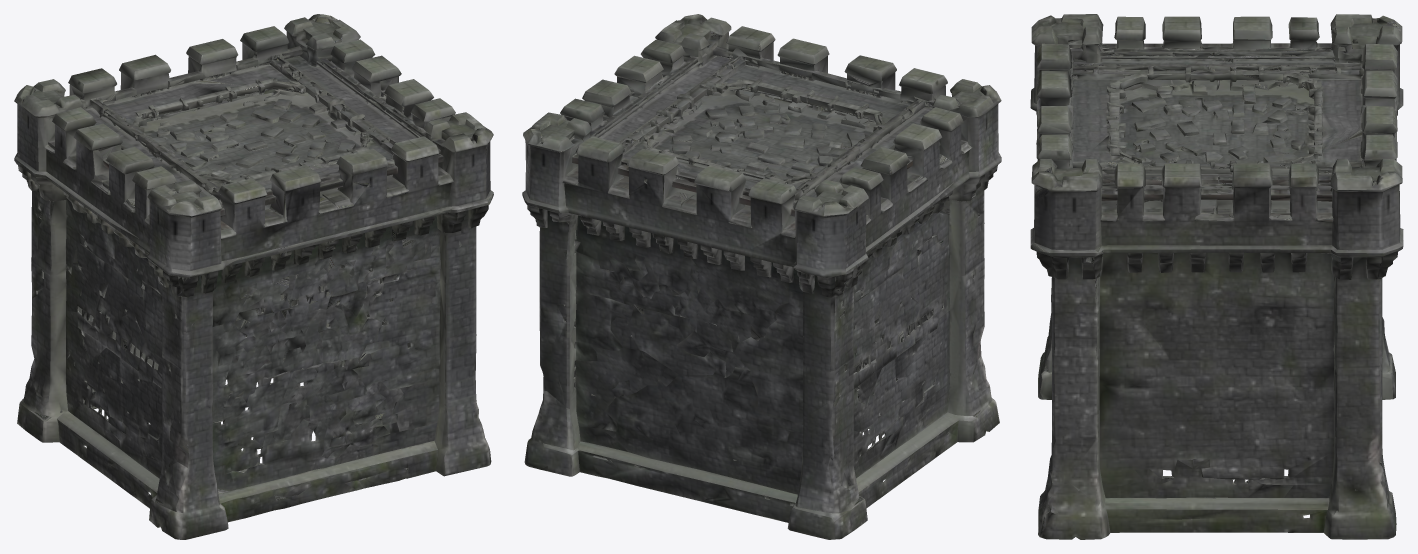
The model's file is rampart.glb.
The picture shows the model from 3 angles, left to right: view 1: azimuth 30°, elevation 25°; view 2: azimuth 150°, elevation 25°; view 3: azimuth 270°, elevation 25°; orthographic projection. The views are drawn at different scales.
Parts seen in each view (by area): view 1: rampart; view 2: rampart; view 3: rampart.
Part boxes in pixels (x1,y1,x2,y2): rampart: (14,14,493,539); rampart: (522,14,1001,539); rampart: (1030,14,1403,539).
Bounding box in the file's own units: 15.31 × 15 × 14.07.
1 material, 1 textured.
